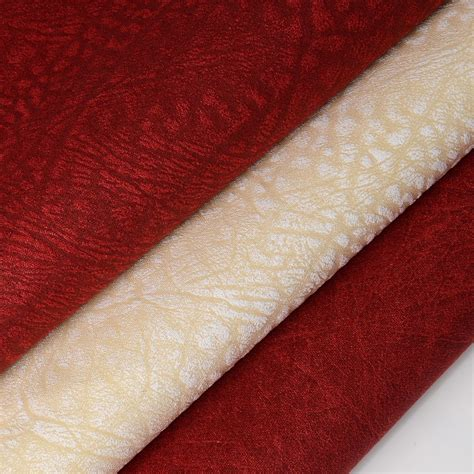gamuza: (2, 1, 474, 474)
